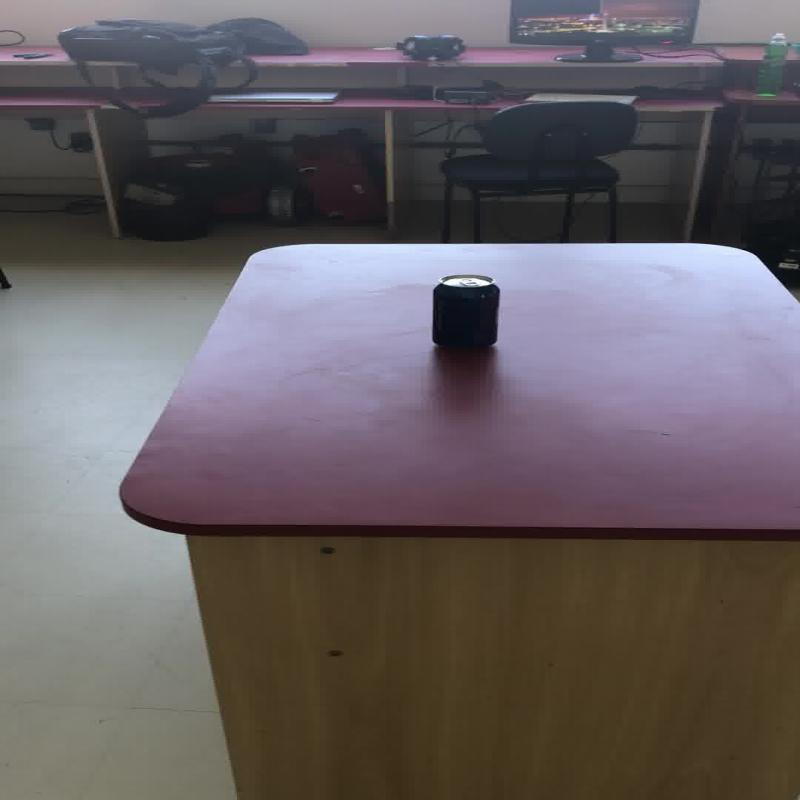tonic: (430, 273, 499, 347), (754, 32, 788, 96)
